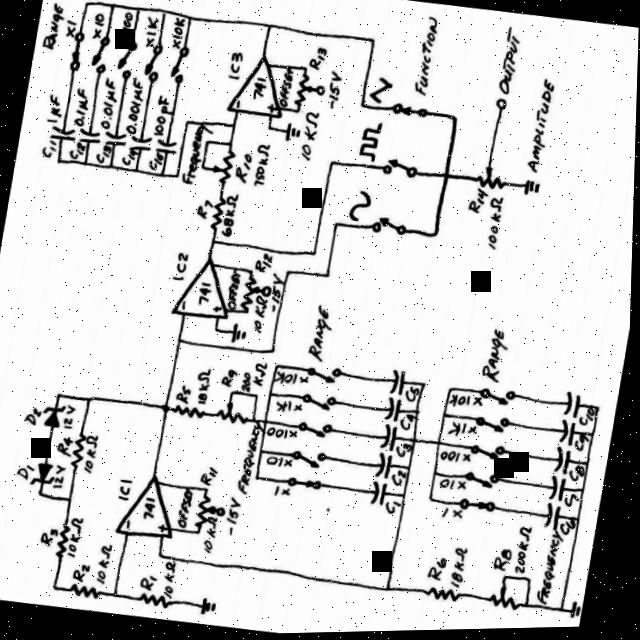capacitor: (42, 116, 82, 150), (374, 420, 404, 460), (122, 128, 156, 160), (148, 133, 184, 163), (370, 451, 401, 485), (366, 476, 394, 513), (97, 126, 131, 156), (543, 476, 574, 508), (538, 502, 567, 536), (73, 124, 105, 152), (548, 448, 575, 481), (385, 369, 412, 401), (381, 396, 408, 427), (560, 393, 585, 425), (554, 421, 582, 449)
diode: (26, 452, 62, 495), (35, 399, 71, 440)
ground: (517, 171, 553, 206), (227, 314, 256, 352), (195, 591, 226, 622), (279, 122, 306, 149), (567, 597, 588, 630)
node: (158, 399, 176, 421)
resistor: (62, 570, 117, 610), (486, 585, 537, 624), (50, 511, 82, 573), (207, 146, 241, 202), (189, 484, 222, 536), (202, 188, 236, 236), (464, 168, 515, 199), (62, 430, 92, 480), (422, 582, 469, 611), (235, 271, 264, 315), (289, 69, 317, 113), (211, 406, 259, 430), (136, 588, 178, 615), (172, 402, 211, 425)
switch: (58, 21, 95, 80), (473, 383, 528, 419), (459, 465, 515, 500), (472, 409, 526, 445), (284, 445, 337, 481), (290, 415, 344, 450), (462, 442, 519, 475), (453, 492, 503, 527), (365, 213, 416, 246), (381, 98, 433, 130), (295, 390, 347, 421), (302, 362, 354, 393), (85, 30, 116, 81), (282, 468, 331, 500), (375, 157, 425, 188), (138, 38, 168, 88), (112, 39, 141, 86), (163, 44, 190, 87)
